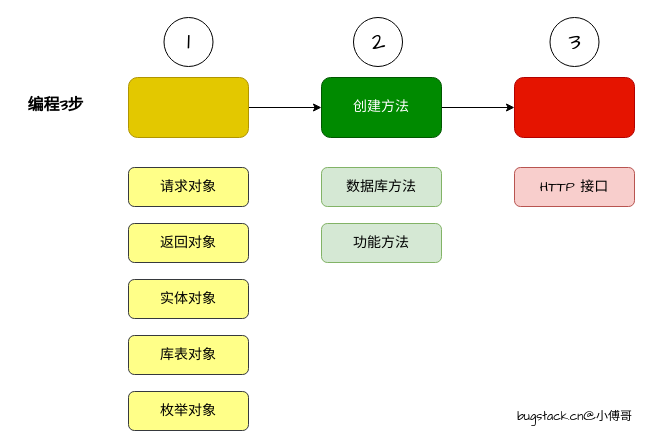
Some shapes in this 657 by 448 pixel diagram are drawn without their labels. The centre of each missing label's shape, as x and y in pixels:
定义属性: pixel 188 107
调用展示: pixel 574 107
